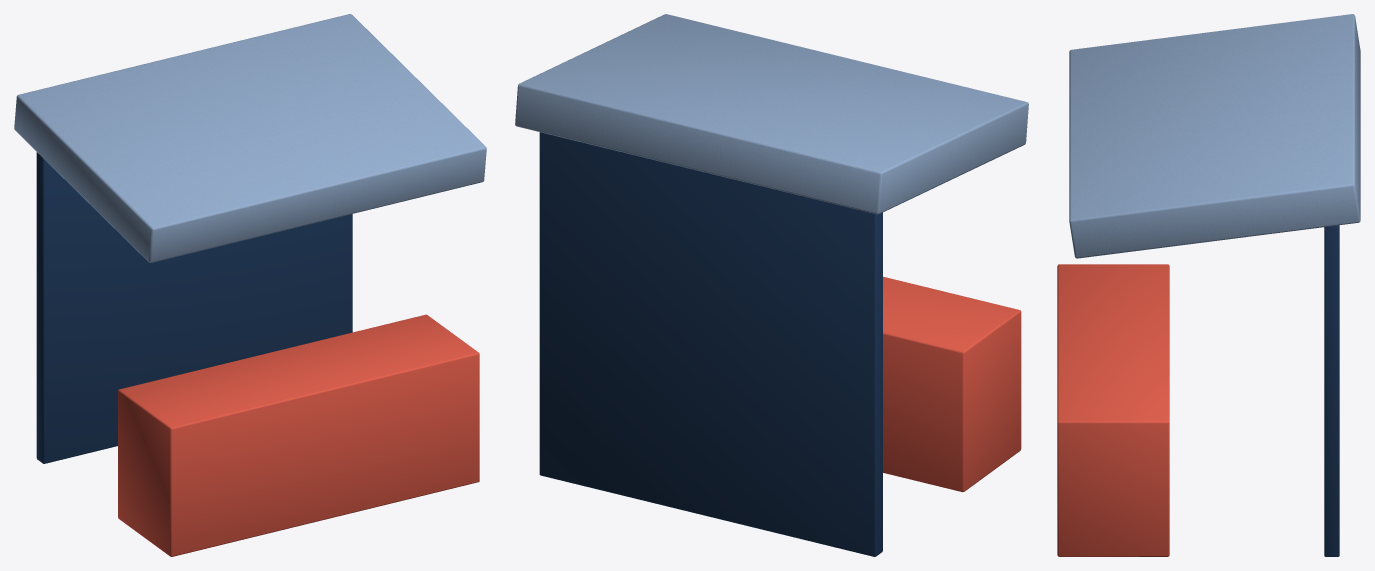
The model's file is fair-ringtoss-31818b29c33a.glb.
The picture shows the model from 3 angles, left to right: view 1: azimuth 30°, elevation 25°; view 2: azimuth 150°, elevation 25°; view 3: azimuth 270°, elevation 25°; orthographic projection. The views are drawn at different scales.
Visible parts, largest first — view 1: Striped_Canopy, Counter, Back_Wall; view 2: Back_Wall, Striped_Canopy, Counter; view 3: Striped_Canopy, Counter, Back_Wall.
Boxes of the visible parts, box(x1,y1,x2,y2) form: Striped_Canopy: box(14, 14, 486, 262); Counter: box(118, 314, 479, 556); Back_Wall: box(36, 152, 352, 463); Back_Wall: box(539, 132, 882, 556); Striped_Canopy: box(515, 14, 1028, 214); Counter: box(883, 276, 1021, 492); Striped_Canopy: box(1069, 14, 1360, 258); Counter: box(1057, 264, 1169, 556); Back_Wall: box(1324, 225, 1339, 556).
Size of the model in its own units: 2.6 by 2.69 by 1.94.
3 materials, 1 textured.
